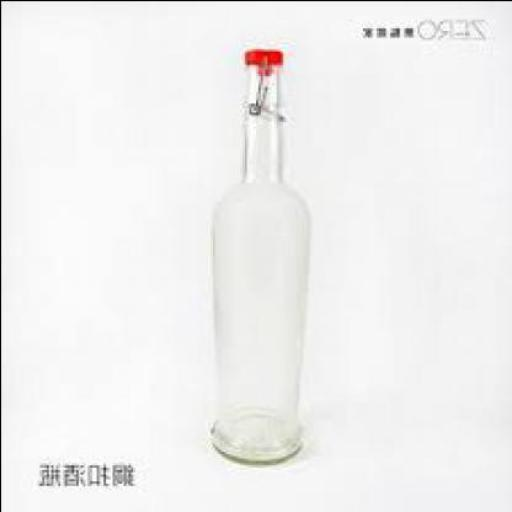glass: (212, 61, 314, 462)
metal: (248, 46, 285, 62)
